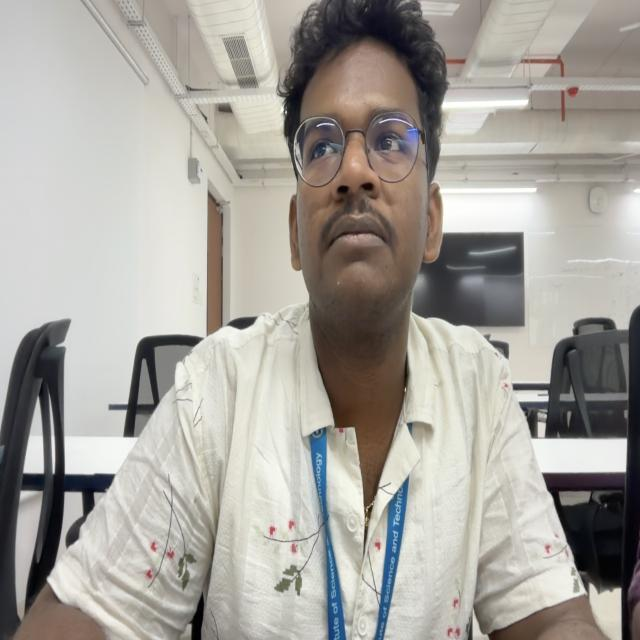sai: (284, 1, 447, 306)
